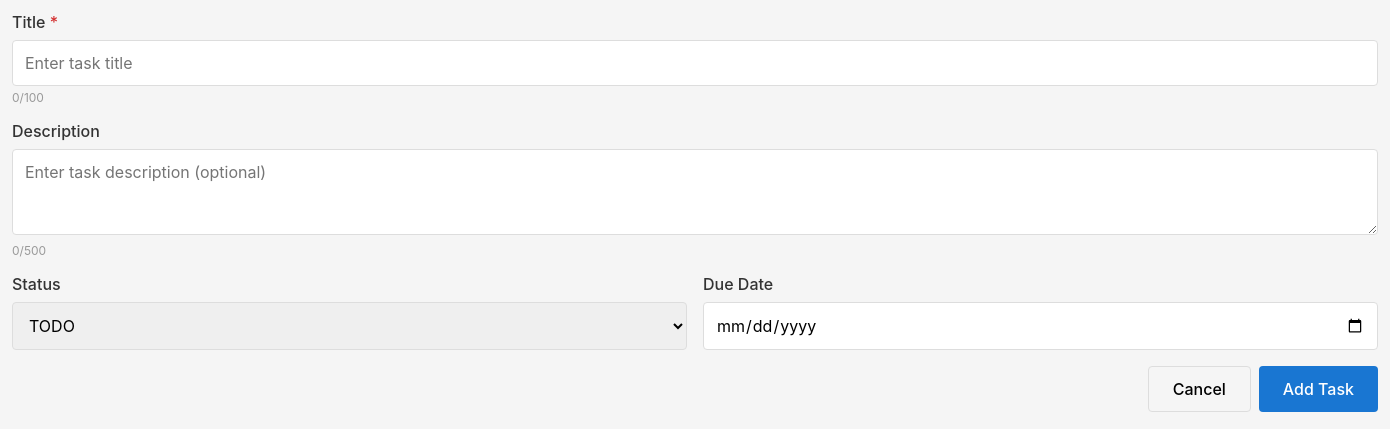
Test: TaskForm Component › Cancel Button › should reset form when cancel button is clicked
The image size is (1390, 429).
Type "Task" into the field labelled "Title *" at (695, 63), box [12,40,1378,86]
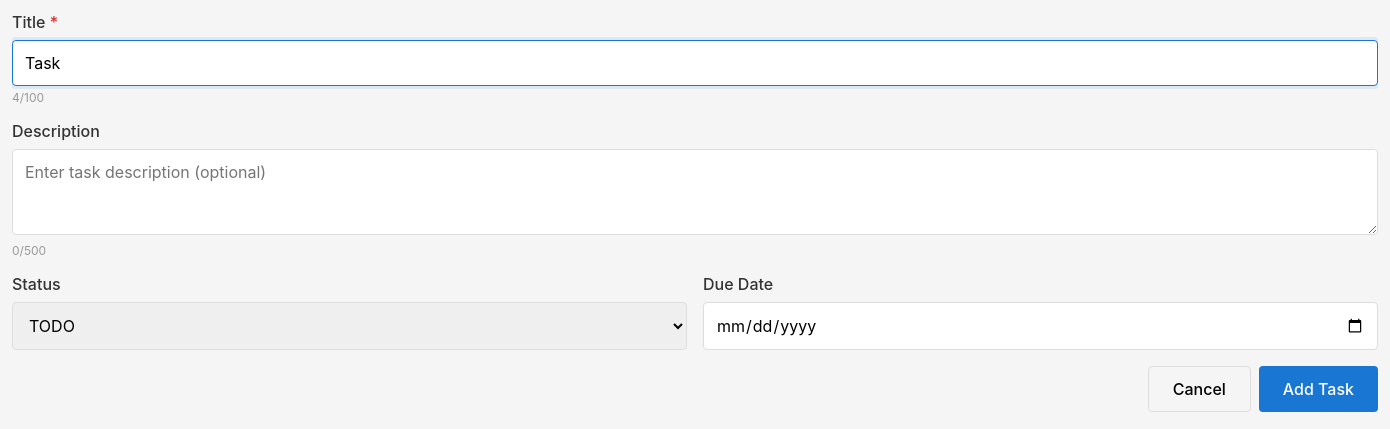
Click the button "Cancel" at (1199, 389), box [1148,366,1251,412]
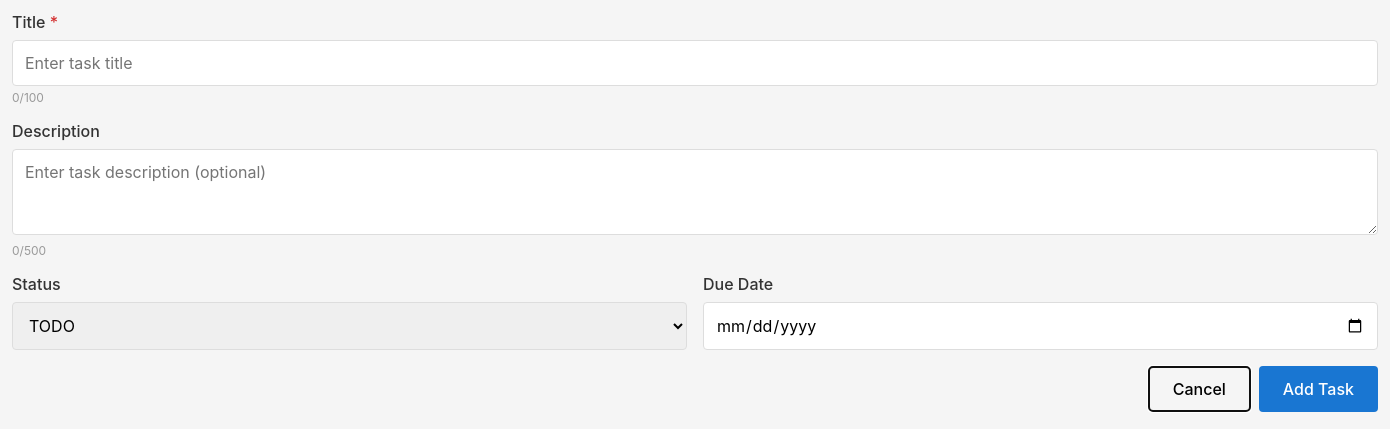
Check: the field labelled "Title *" is empty, box [12,40,1378,86]
